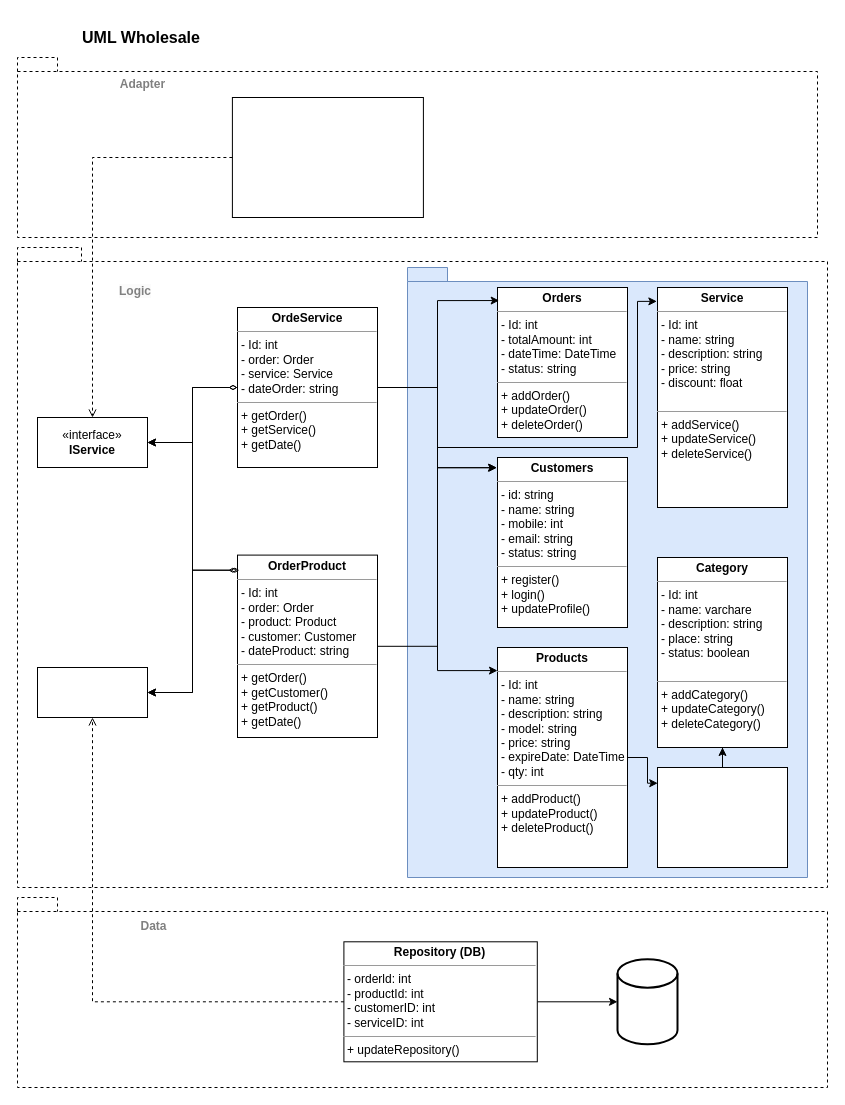
The diagram is 845 pixels wide and 1105 high, and some of its shapes have lost their labels. The box of each missing label's shape, as (x1, y1, x2, y2) in pixels:
Adapter + respnce: Strind + cnvert(List<Order>: String: (231, 96, 423, 218)
package: (406, 266, 808, 878)
ProductCategory - Id: int - categoryld: int - productId: int: (656, 766, 788, 868)
«interface» IRepository: (36, 666, 148, 718)
